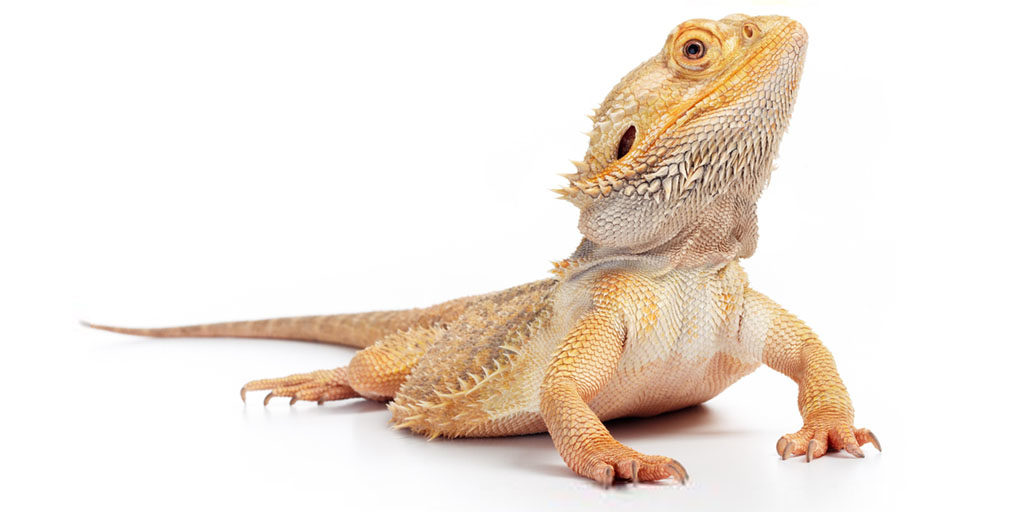bearded: (74, 14, 882, 493)
